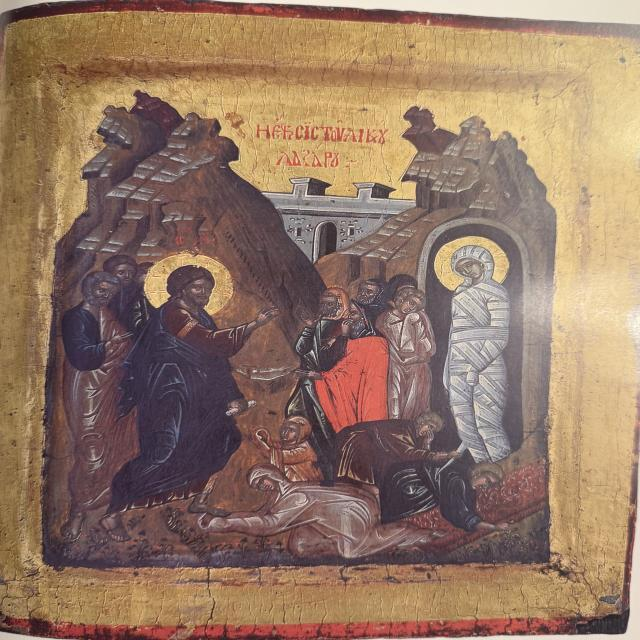aura: (143, 252, 236, 320), (432, 237, 514, 290)
christ: (104, 251, 287, 477)
saint: (425, 232, 528, 466)
